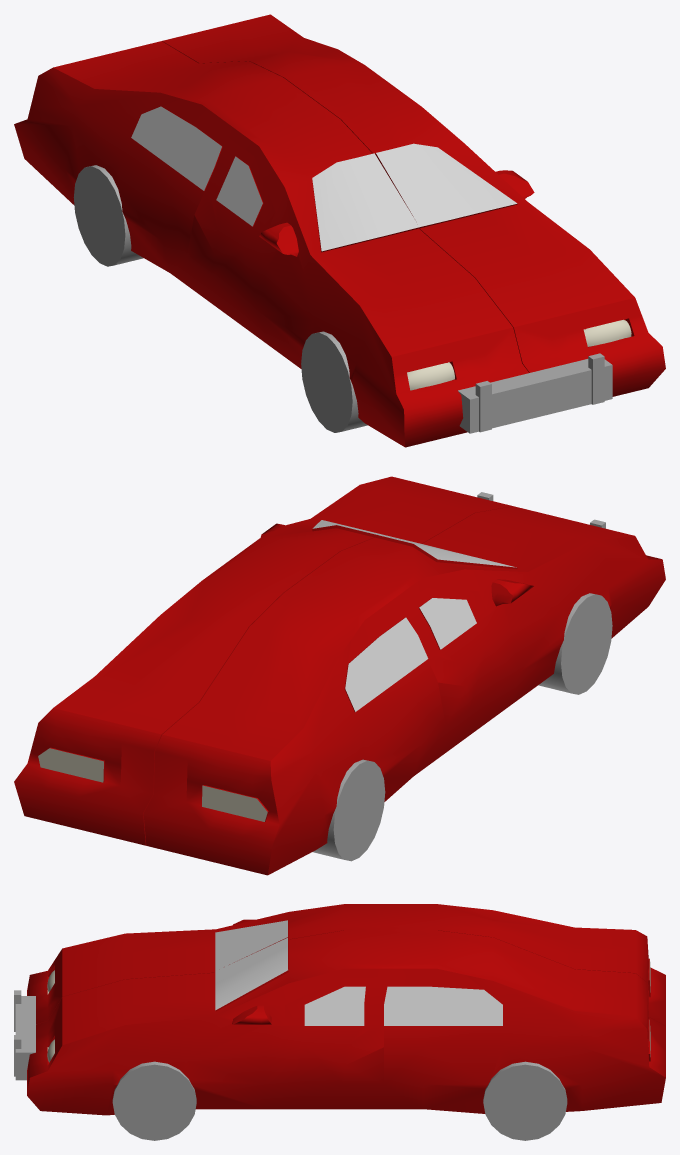
The model's file is Blue Car.fbx.
3 views of the same model, one above another, from view 1: azimuth 30°, elevation 25°; view 2: azimuth 150°, elevation 25°; view 3: azimuth 270°, elevation 25° (orthographic). The views are drawn at different scales.
Parts seen in each view (by area): view 1: polySurface8; view 2: polySurface8; view 3: polySurface8.
Part boxes in pixels (left/top/right/bottom): polySurface8: left=14, top=14, right=665, bottom=447; polySurface8: left=14, top=476, right=665, bottom=875; polySurface8: left=14, top=904, right=665, bottom=1140.
Size of the model in its own units: 1.75 by 1.23 by 4.59.
